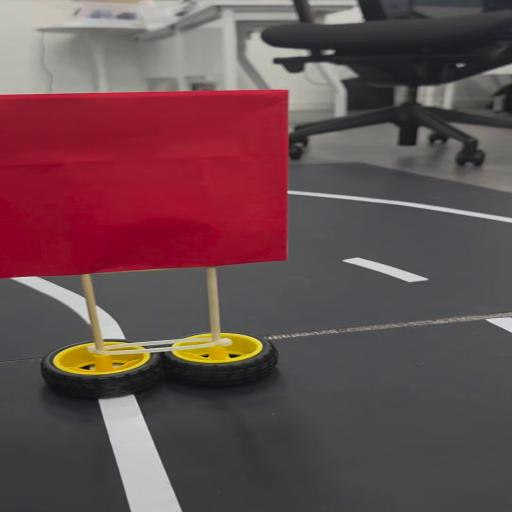Sign_A: (2, 90, 314, 400)
